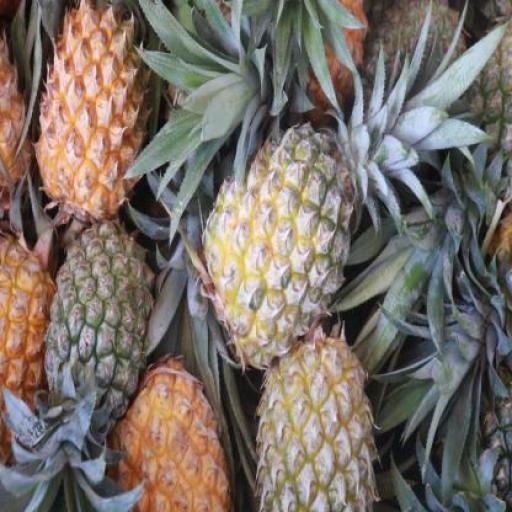------------------------------: (202, 117, 354, 364), (254, 327, 374, 511)
Pineapple - v8 v1: (38, 1, 150, 228), (110, 356, 232, 510)
